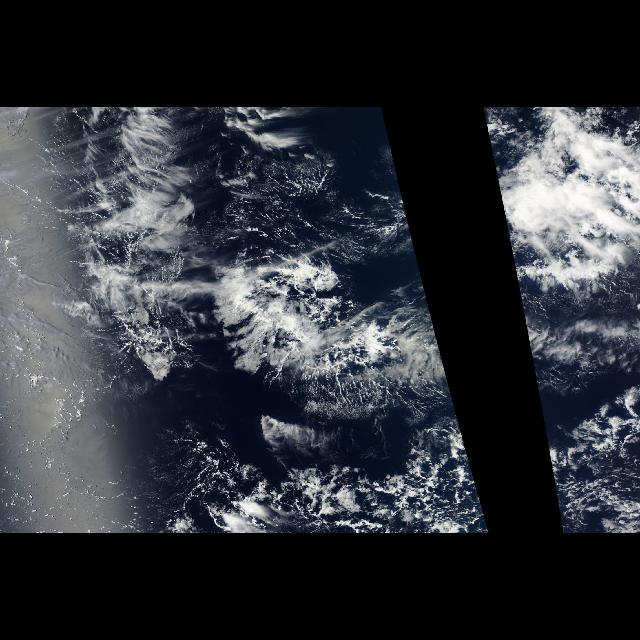Fish: (212, 238, 392, 422)
Gravel: (306, 447, 488, 527), (548, 447, 638, 527)
